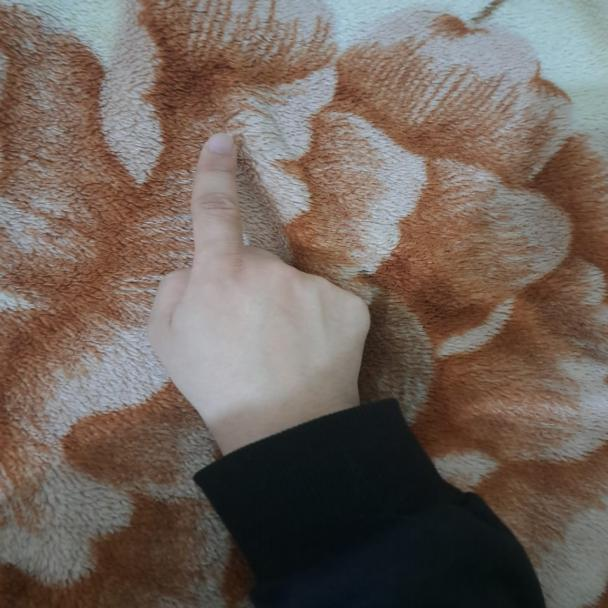one: (149, 119, 388, 422)
